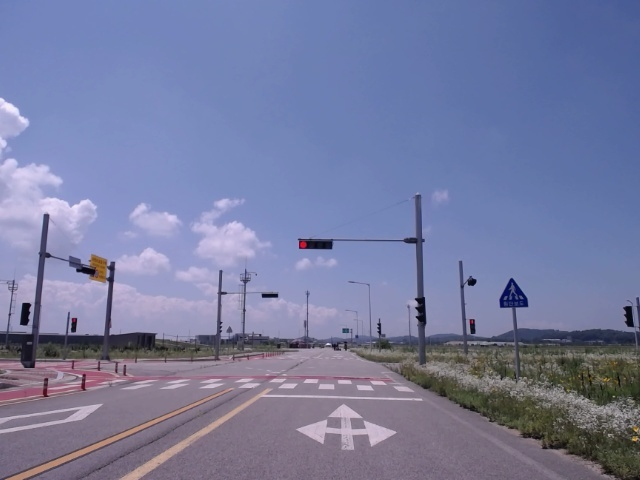red_4: (299, 240, 332, 249)
